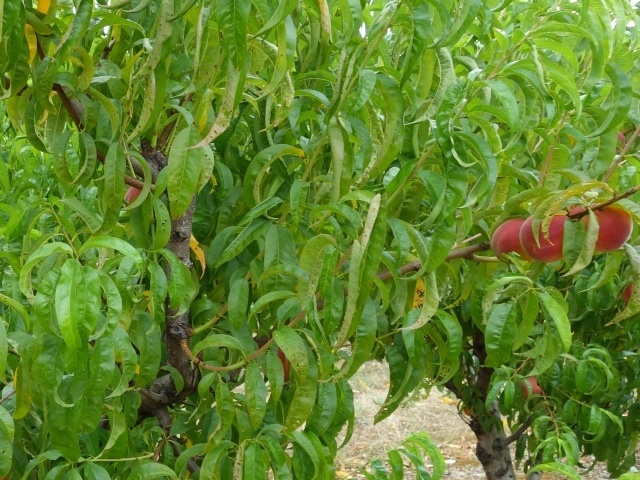peach: (514, 206, 573, 265), (577, 197, 635, 256), (485, 212, 528, 268)
